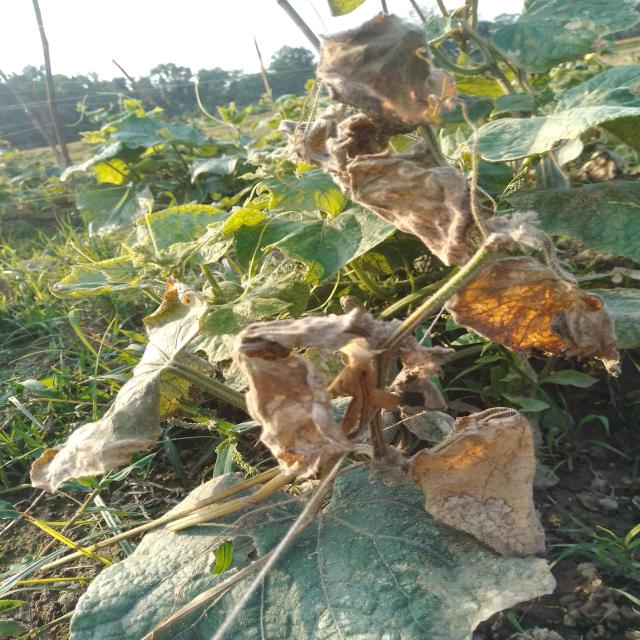cucumber_bacterial: (78, 469, 593, 640), (43, 291, 206, 478), (233, 294, 387, 474), (440, 237, 613, 378), (419, 404, 561, 571), (343, 126, 486, 254), (317, 4, 423, 136), (247, 112, 362, 192)
